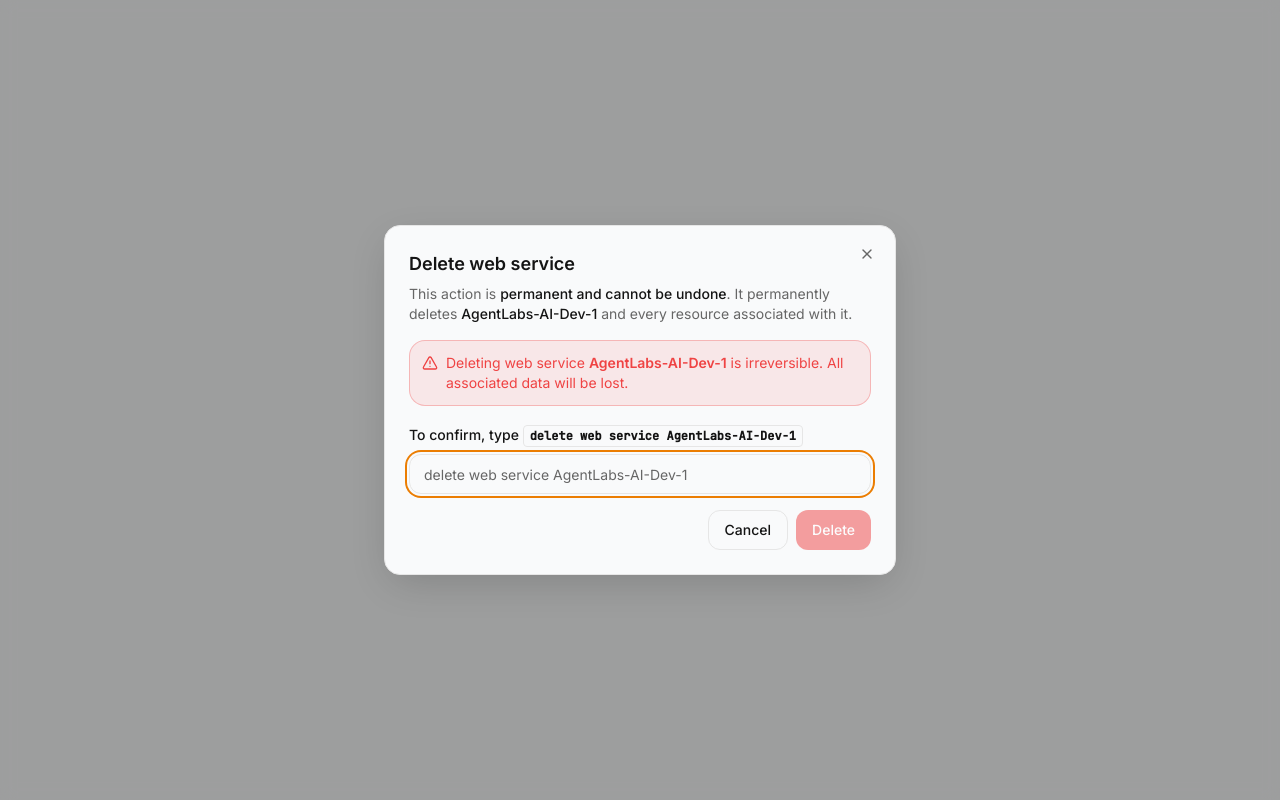
it: ConfirmDeleteDialog › keeps Delete disabled until the exact phrase is typed
The width and height of the screenshot is (1280, 800).
Expected: the button "Delete" is disabled, [796,510,871,550]
Step 1. Type "delete web service Agent" into the field → (640, 474), box [409,454,871,494]
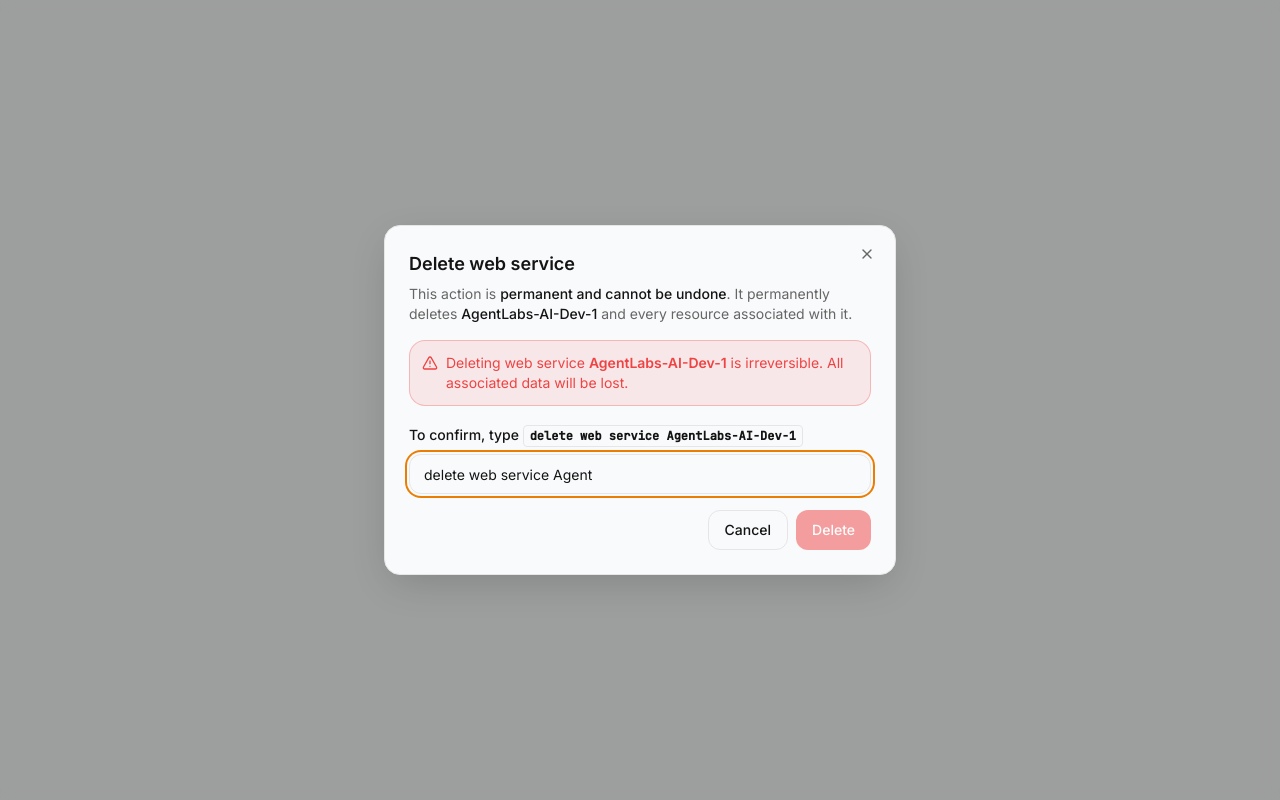
Expected: the button "Delete" is disabled, [796,510,871,550]
Step 2. Type "Labs-AI-Dev-1" into the field → (640, 474), box [409,454,871,494]
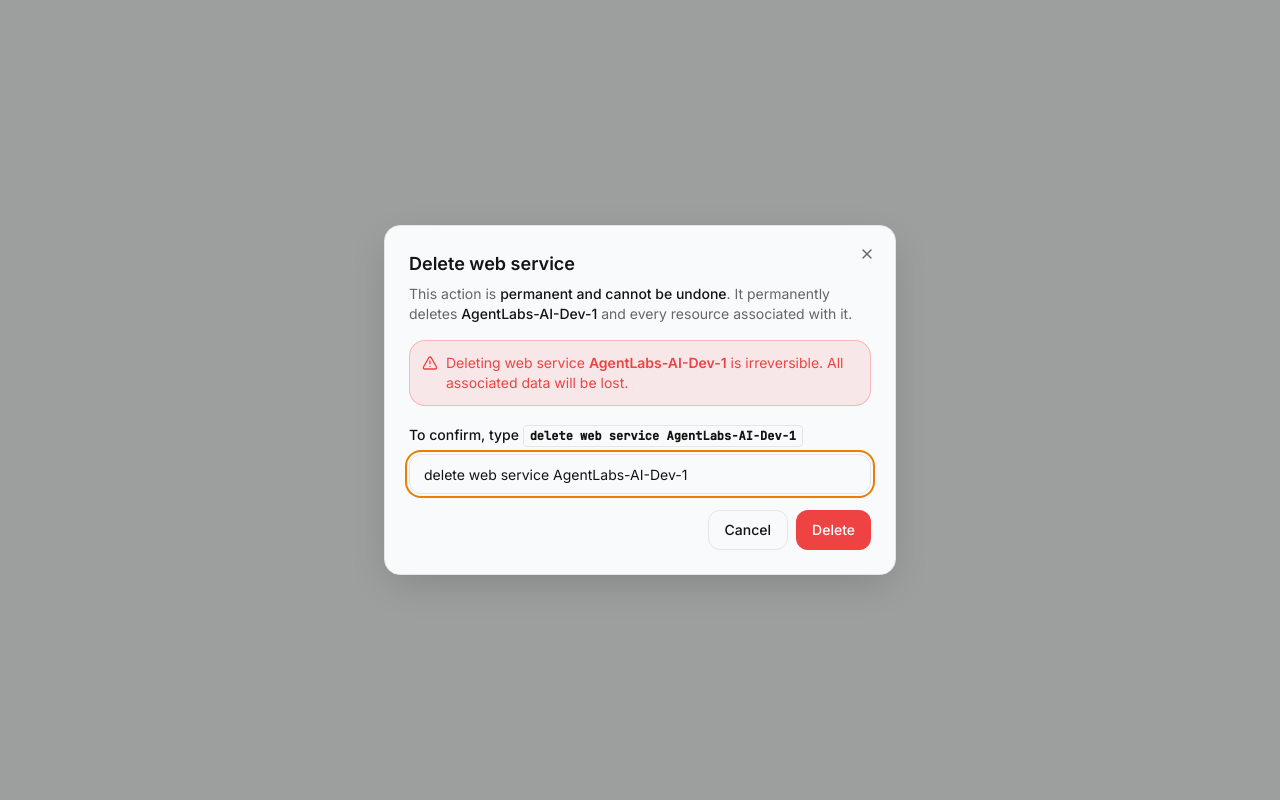
Expected: the field holds "delete web service AgentLabs-AI-Dev-1", [409,454,871,494]
Expected: the button "Delete" is enabled, [796,510,871,550]
